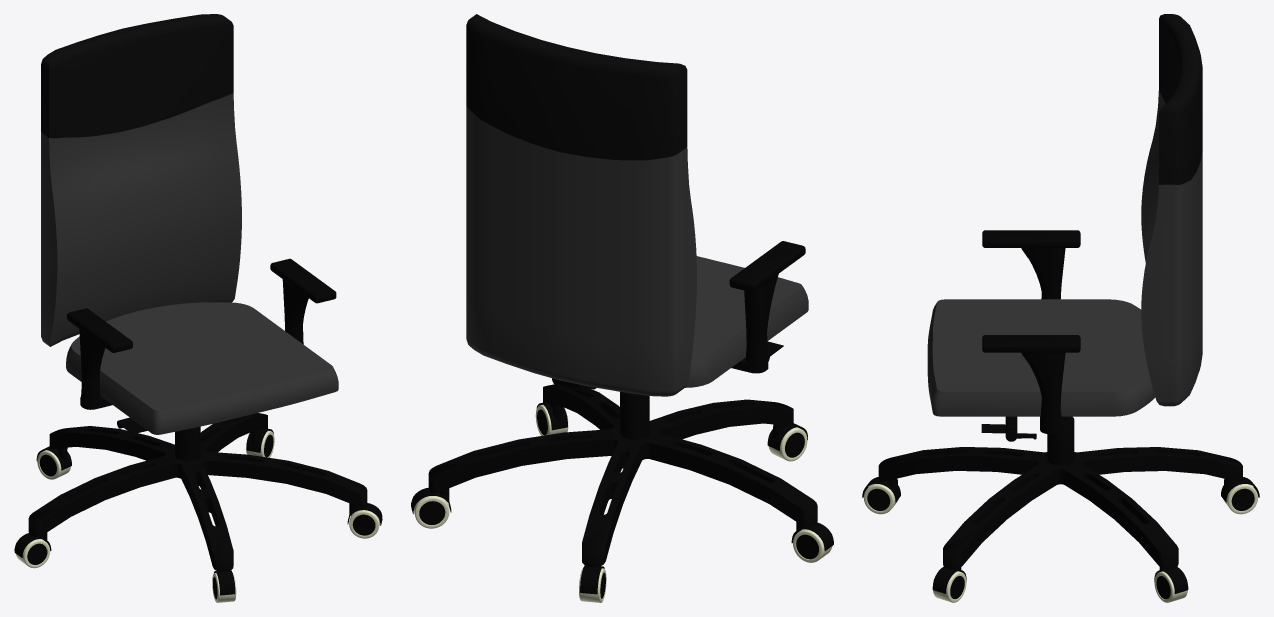
The model's file is office_chair2.fbx.
3 views of the same model, side by side, from view 1: azimuth 30°, elevation 25°; view 2: azimuth 150°, elevation 25°; view 3: azimuth 270°, elevation 25° (orthographic). The views are drawn at different scales.
Visible parts, largest first — view 1: Plane.001, Plane.002, Cylinder.001, Cylinder.010, Cylinder, Cylinder.003, Cylinder.005, Cylinder.006, Cylinder.002, Cylinder.004; view 2: Plane.001, Cylinder.001, Plane.002, Cylinder.010, Cylinder.006, Cylinder, Cylinder.004, Cylinder.002, Cylinder.005, Cylinder.003; view 3: Plane.002, Plane.001, Cylinder.001, Cylinder.010, Cylinder.006, Cylinder.002, Cylinder.005, Cylinder.004, Cylinder.003, Cylinder.007.
Boxes of the visible parts, box(x1,y1,x2,y2) form: Plane.001: box(41, 14, 241, 346); Plane.002: box(66, 302, 338, 434); Cylinder.001: box(28, 413, 367, 571); Cylinder.010: box(67, 258, 336, 409); Cylinder: box(14, 532, 51, 568); Cylinder.003: box(347, 503, 382, 538); Cylinder.005: box(36, 446, 71, 479); Cylinder.006: box(175, 426, 200, 460); Cylinder.002: box(212, 570, 236, 602); Cylinder.004: box(246, 428, 274, 457); Plane.001: box(466, 14, 696, 396); Cylinder.001: box(428, 384, 817, 567); Plane.002: box(685, 256, 808, 387); Cylinder.010: box(729, 241, 805, 373); Cylinder.006: box(620, 391, 649, 439); Cylinder: box(791, 522, 833, 562); Cylinder.004: box(411, 487, 451, 528); Cylinder.002: box(767, 423, 807, 461); Cylinder.005: box(579, 565, 606, 602); Cylinder.003: box(535, 402, 568, 435); Plane.002: box(927, 299, 1155, 416); Plane.001: box(1141, 14, 1202, 406); Cylinder.001: box(878, 447, 1242, 569); Cylinder.010: box(982, 230, 1080, 434); Cylinder.006: box(1047, 416, 1074, 465); Cylinder.002: box(862, 477, 900, 514); Cylinder.005: box(1221, 477, 1259, 514); Cylinder.004: box(1154, 567, 1188, 602); Cylinder.003: box(932, 567, 966, 602); Cylinder.007: box(981, 416, 1036, 441).
Bounding box in the file's own units: 1.87 × 2.6 × 1.96.
